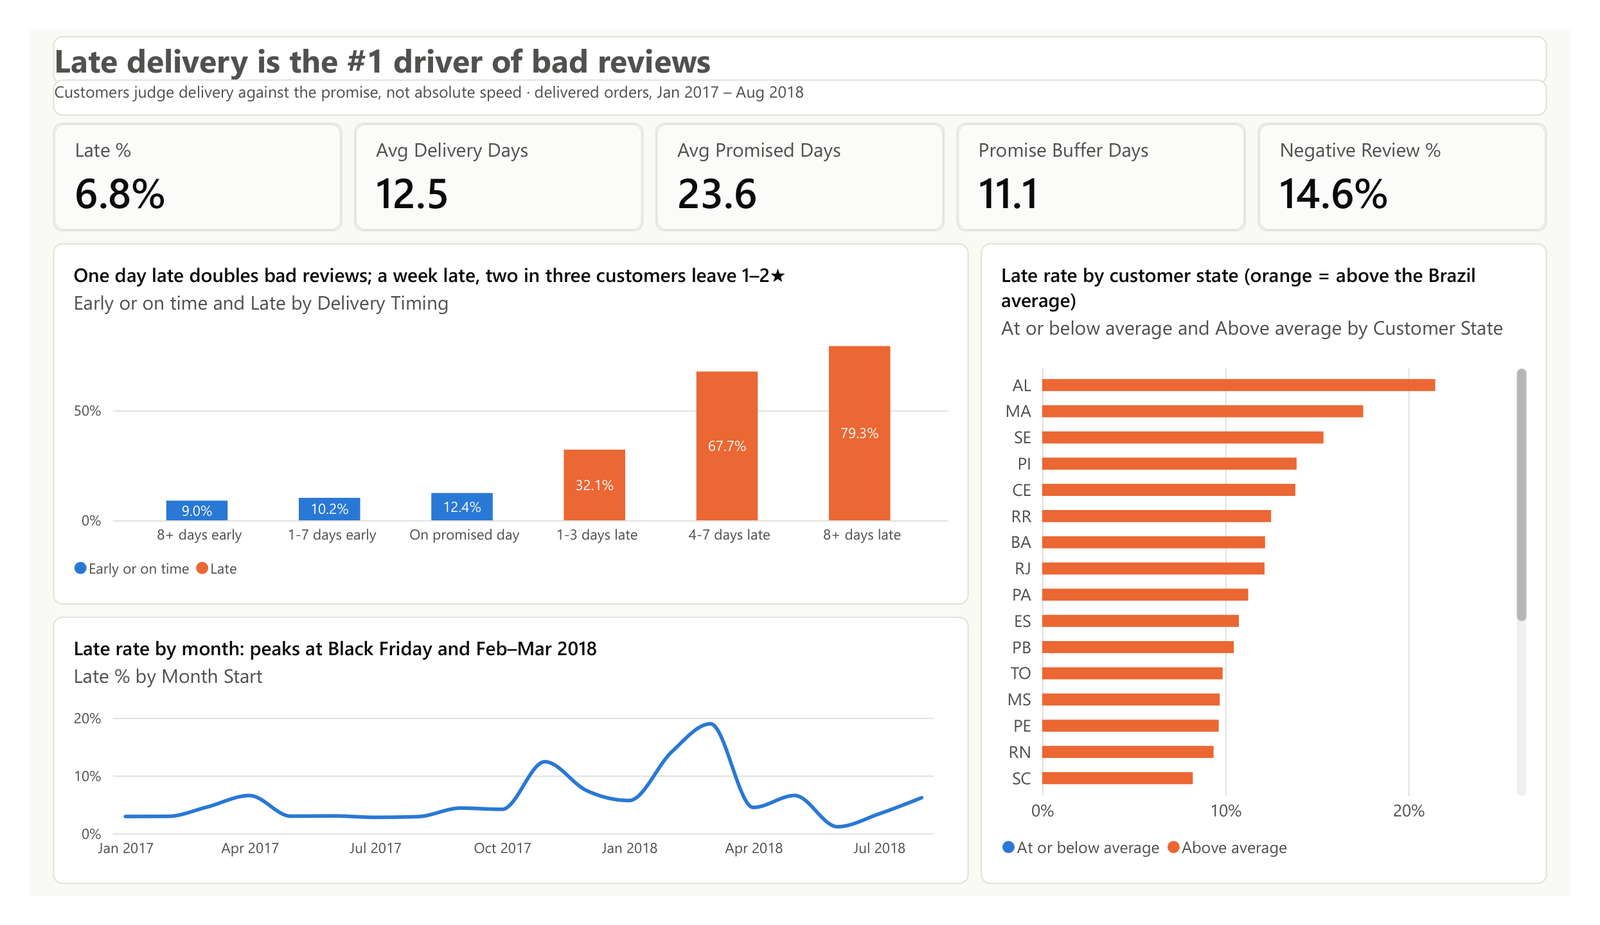

What the dashboard file says about the page in this screenshot:
{"tool":"powerbi","page":{"name":"Delivery & Satisfaction","canvas":[1280,720],"ordinal":1},"visuals":[{"type":"textbox","box":[20,6,1240,40],"z":0},{"type":"textbox","box":[20,42,1240,30],"z":1},{"type":"cardVisual","fields":{"Data":["Orders.Late %"]},"box":[20,78,240,90],"z":2},{"type":"cardVisual","fields":{"Data":["Orders.Avg Delivery Days"]},"box":[270,78,240,90],"z":3},{"type":"cardVisual","fields":{"Data":["Orders.Avg Promised Days"]},"box":[520,78,240,90],"z":4},{"type":"cardVisual","fields":{"Data":["Orders.Promise Buffer Days"]},"box":[770,78,240,90],"z":5},{"type":"cardVisual","fields":{"Data":["Orders.Negative Review %"]},"box":[1020,78,240,90],"z":6},{"type":"columnChart","title":"One day late doubles bad reviews; a week late, two in three customers leave 1–2★","fields":{"Category":["Orders.Delivery Timing"],"Y":["Orders.Negative % Early or On Time","Orders.Negative % Late"]},"box":[20,178,760,300],"z":7},{"type":"barChart","title":"Late rate by customer state (orange = above the Brazil average)","fields":{"Category":["Orders.Customer State"],"Y":["Orders.Late % At or Below Avg","Orders.Late % Above Avg"]},"box":[790,178,470,532],"z":8},{"type":"lineChart","title":"Late rate by month: peaks at Black Friday and Feb–Mar 2018","fields":{"Category":["Date.Month Start"],"Y":["Orders.Late %"]},"box":[20,488,760,222],"z":9}]}

Visuals, with their boxes in screenshot pixels (x1, y1, x2, y2), scaled from the page's 1280x720 canvas onto the 1600x925 screenshot:
textbox: {"left": 25, "top": 8, "right": 1575, "bottom": 59}
textbox: {"left": 25, "top": 54, "right": 1575, "bottom": 92}
cardVisual - Orders.Late %: {"left": 25, "top": 100, "right": 325, "bottom": 216}
cardVisual - Orders.Avg Delivery Days: {"left": 338, "top": 100, "right": 638, "bottom": 216}
cardVisual - Orders.Avg Promised Days: {"left": 650, "top": 100, "right": 950, "bottom": 216}
cardVisual - Orders.Promise Buffer Days: {"left": 962, "top": 100, "right": 1262, "bottom": 216}
cardVisual - Orders.Negative Review %: {"left": 1275, "top": 100, "right": 1575, "bottom": 216}
"One day late doubles bad reviews; a week late, two in three customers leave 1–2★" columnChart: {"left": 25, "top": 229, "right": 975, "bottom": 614}
"Late rate by customer state (orange = above the Brazil average)" barChart: {"left": 988, "top": 229, "right": 1575, "bottom": 912}
"Late rate by month: peaks at Black Friday and Feb–Mar 2018" lineChart: {"left": 25, "top": 627, "right": 975, "bottom": 912}
